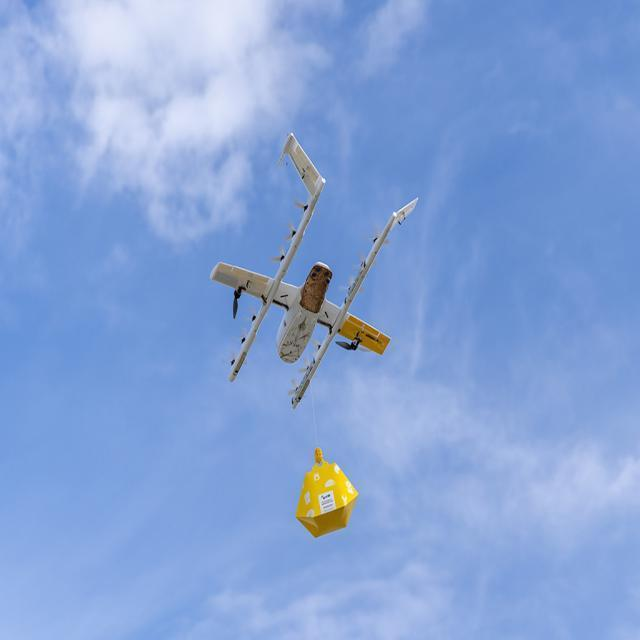iha: (206, 131, 430, 410)
